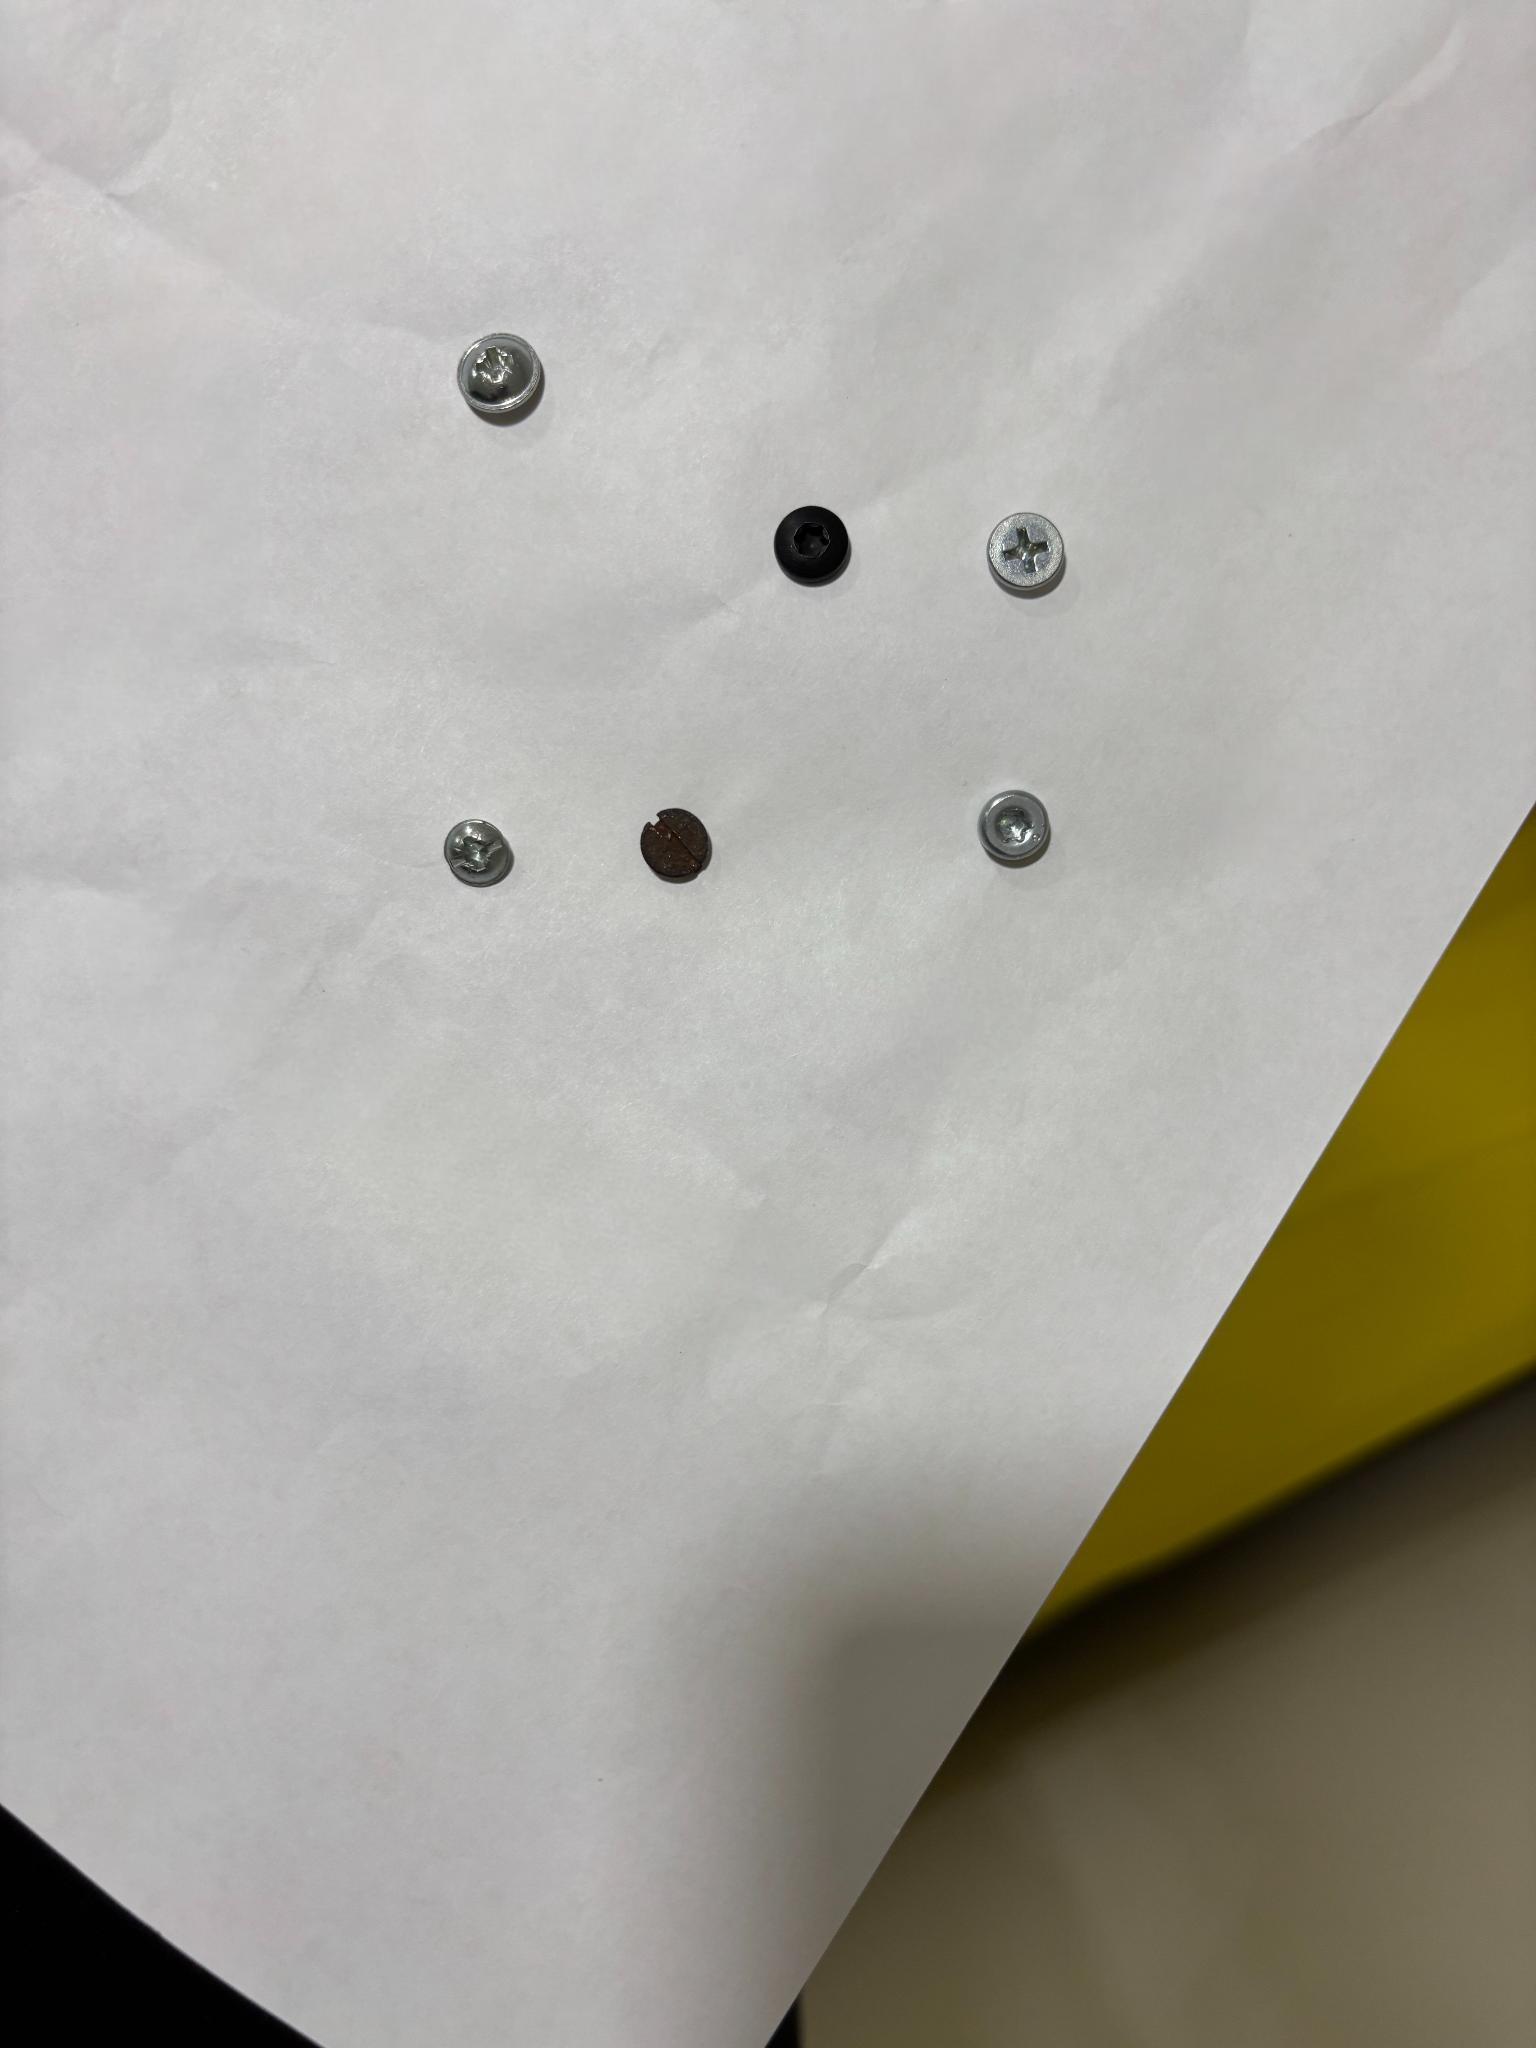H: (774, 505, 849, 584)
PH: (458, 334, 542, 421), (987, 513, 1065, 597)
PZ: (444, 819, 513, 887)
SL: (641, 808, 712, 882)
T: (978, 790, 1050, 864)
